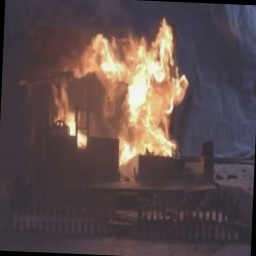fire: (43, 0, 191, 161)
